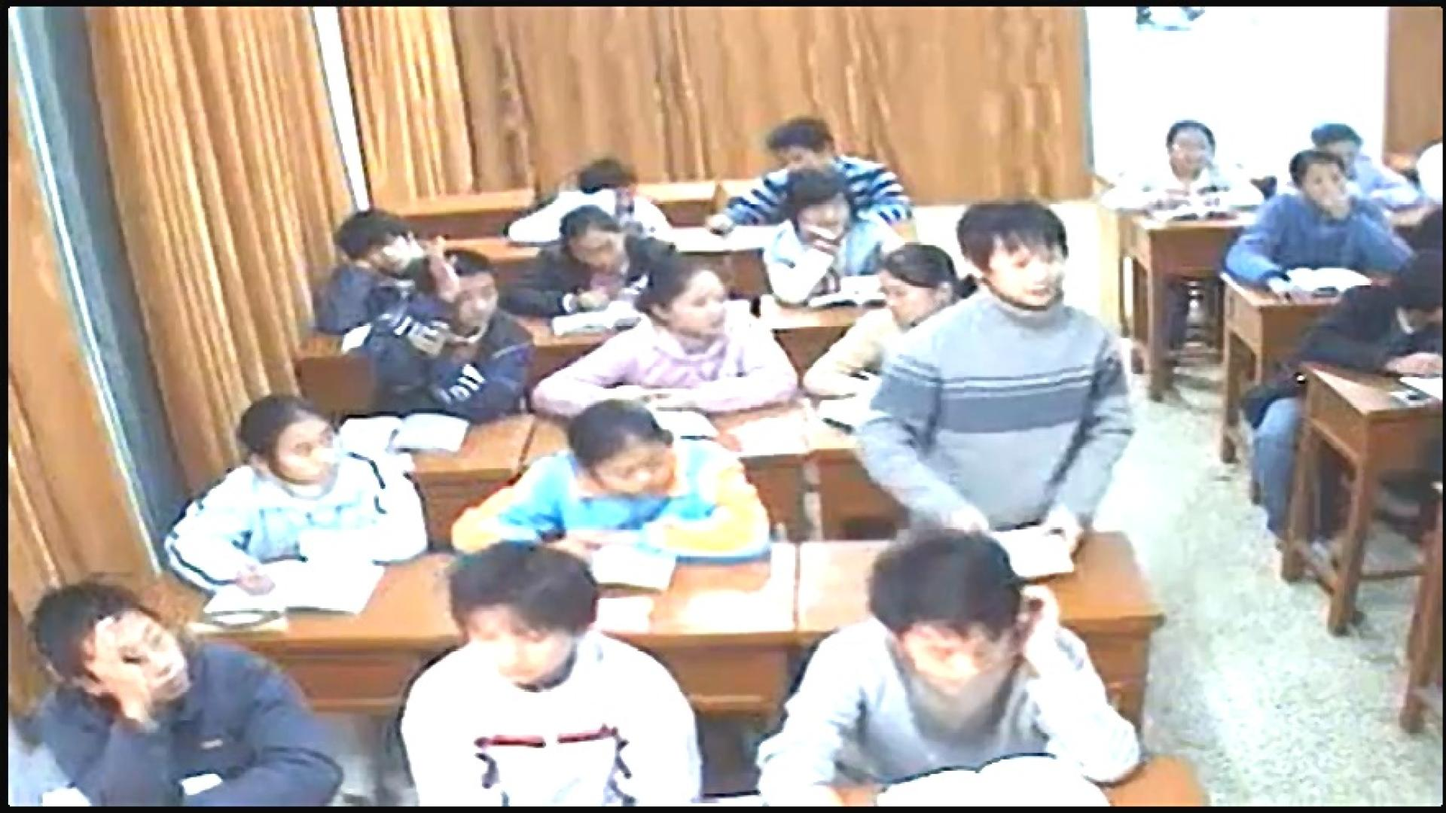Bend Over The Desk: (1319, 275, 1443, 384)
Look Around: (623, 274, 751, 386), (245, 402, 346, 477), (864, 242, 946, 319)
Stand Up: (916, 194, 1110, 506)
Wave: (425, 247, 459, 367)
